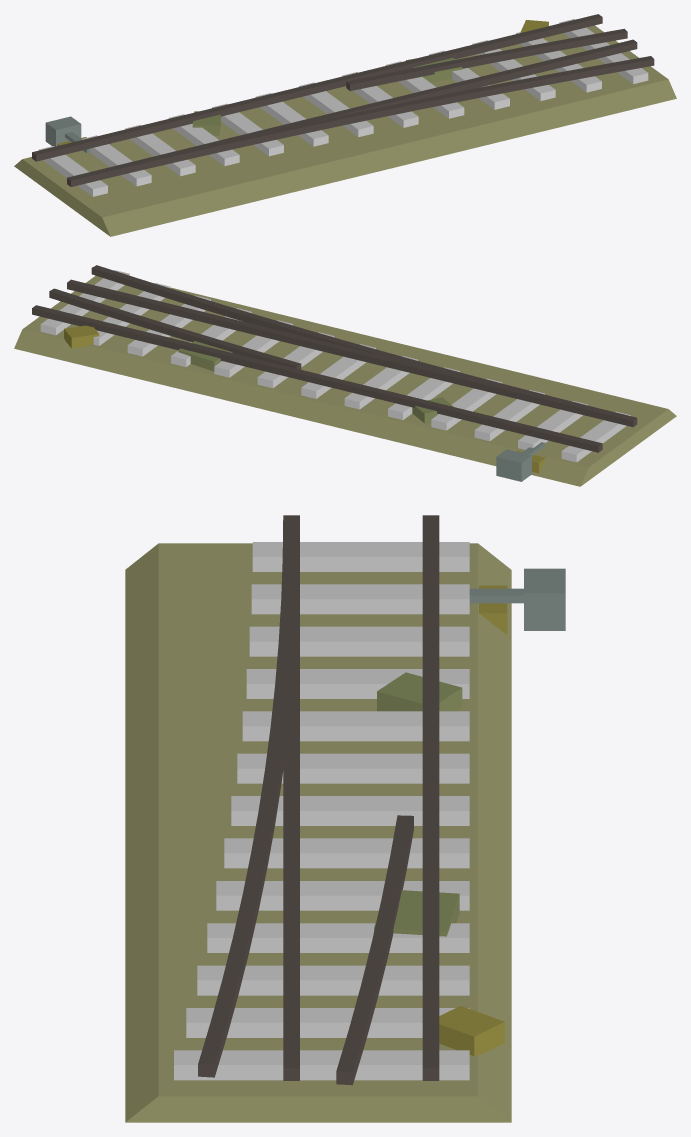
File: SM_Via_DesvioDer_v2_Maleza_LOD1.fbx
3 views of the same model, one above another, from view 1: azimuth 30°, elevation 25°; view 2: azimuth 150°, elevation 25°; view 3: azimuth 270°, elevation 25° (orthographic). The views are drawn at different scales.
Parts seen in each view (by area): view 1: SM_via_trazado_v32_LOD1; view 2: SM_via_trazado_v32_LOD1; view 3: SM_via_trazado_v32_LOD1.
Part boxes in pixels (<box>): SM_via_trazado_v32_LOD1: <box>14,14,676,236</box>; SM_via_trazado_v32_LOD1: <box>14,265,676,486</box>; SM_via_trazado_v32_LOD1: <box>125,515,565,1122</box>.
Size of the model in its own units: 15.79 by 0.721 by 5.28.
